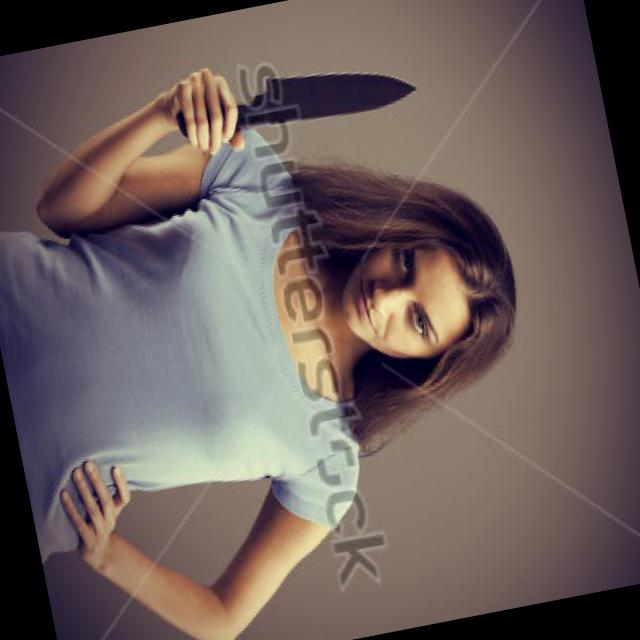knife: (185, 20, 432, 162)
